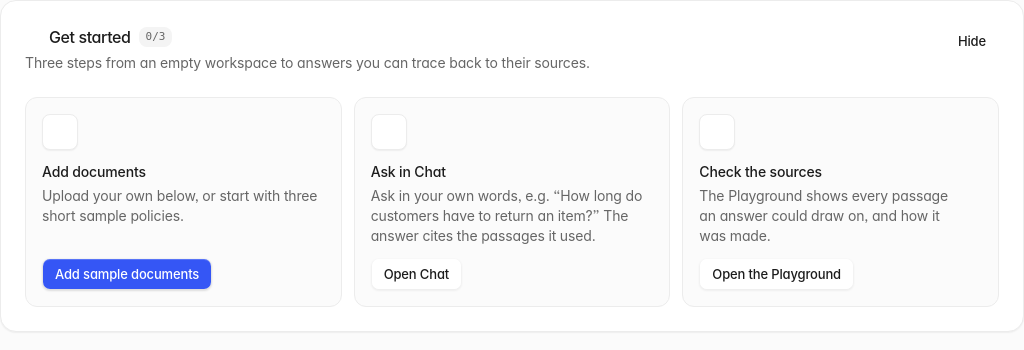
Test case: GettingStartedContainer › a new workspace adds three samples through ingest; the step is then done
Click the button "Add sample documents".
click(127, 274)  # box [42,258,212,290]
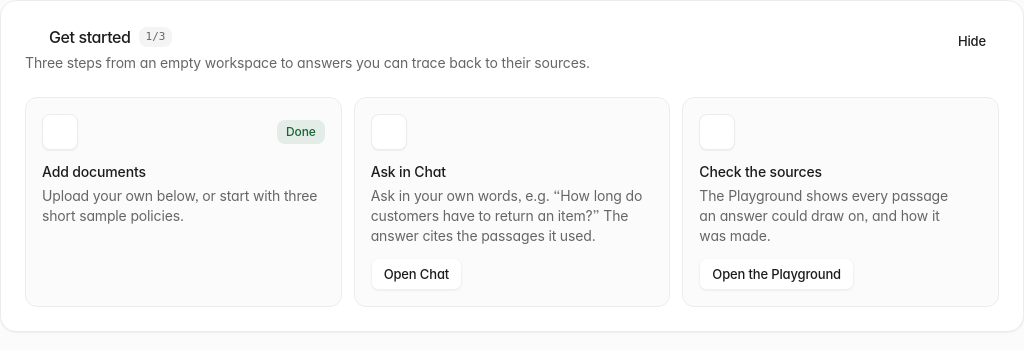
Now the icon "Done" is shown, box [277,120,325,144]
Now the icon "1/3" is shown, box [138,27,172,47]
Now the button "Add sample documents" is gone
